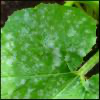Squash Powdery mildew leaf: (1, 1, 98, 98)
